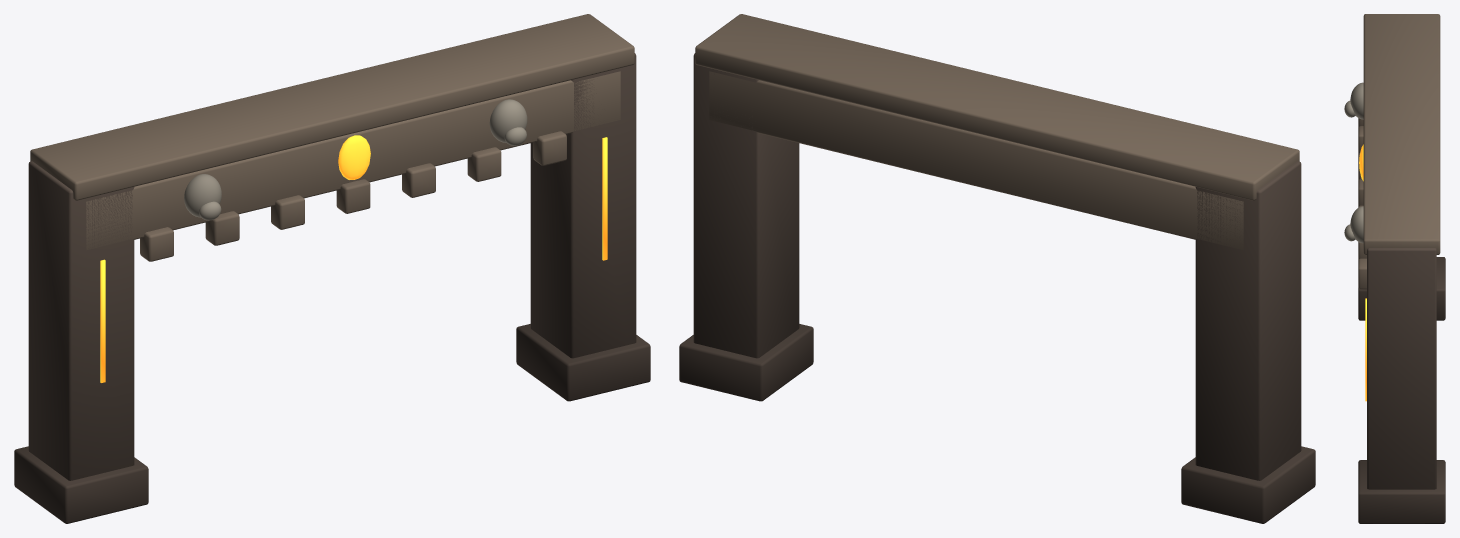
The model's file is gate_frame.glb.
3 views of the same model, side by side, from view 1: azimuth 30°, elevation 25°; view 2: azimuth 150°, elevation 25°; view 3: azimuth 270°, elevation 25° (orthographic). The views are drawn at different scales.
Visible parts, largest first — view 1: frame_lintel, frame_posts, frame_skulls, frame_glow; view 2: frame_posts, frame_lintel; view 3: frame_posts, frame_lintel, frame_skulls, frame_glow.
Part boxes in pixels (<box>): frame_lintel: <box>30,14,634,261</box>; frame_posts: <box>14,53,650,523</box>; frame_skulls: <box>184,99,527,220</box>; frame_glow: <box>100,135,607,382</box>; frame_posts: <box>679,53,1315,523</box>; frame_lintel: <box>695,14,1299,250</box>; frame_posts: <box>1358,248,1445,523</box>; frame_lintel: <box>1358,14,1440,289</box>; frame_skulls: <box>1344,82,1363,243</box>; frame_glow: <box>1359,144,1366,401</box>.
Size of the model in its own units: 16.1 by 8.85 by 2.9.
